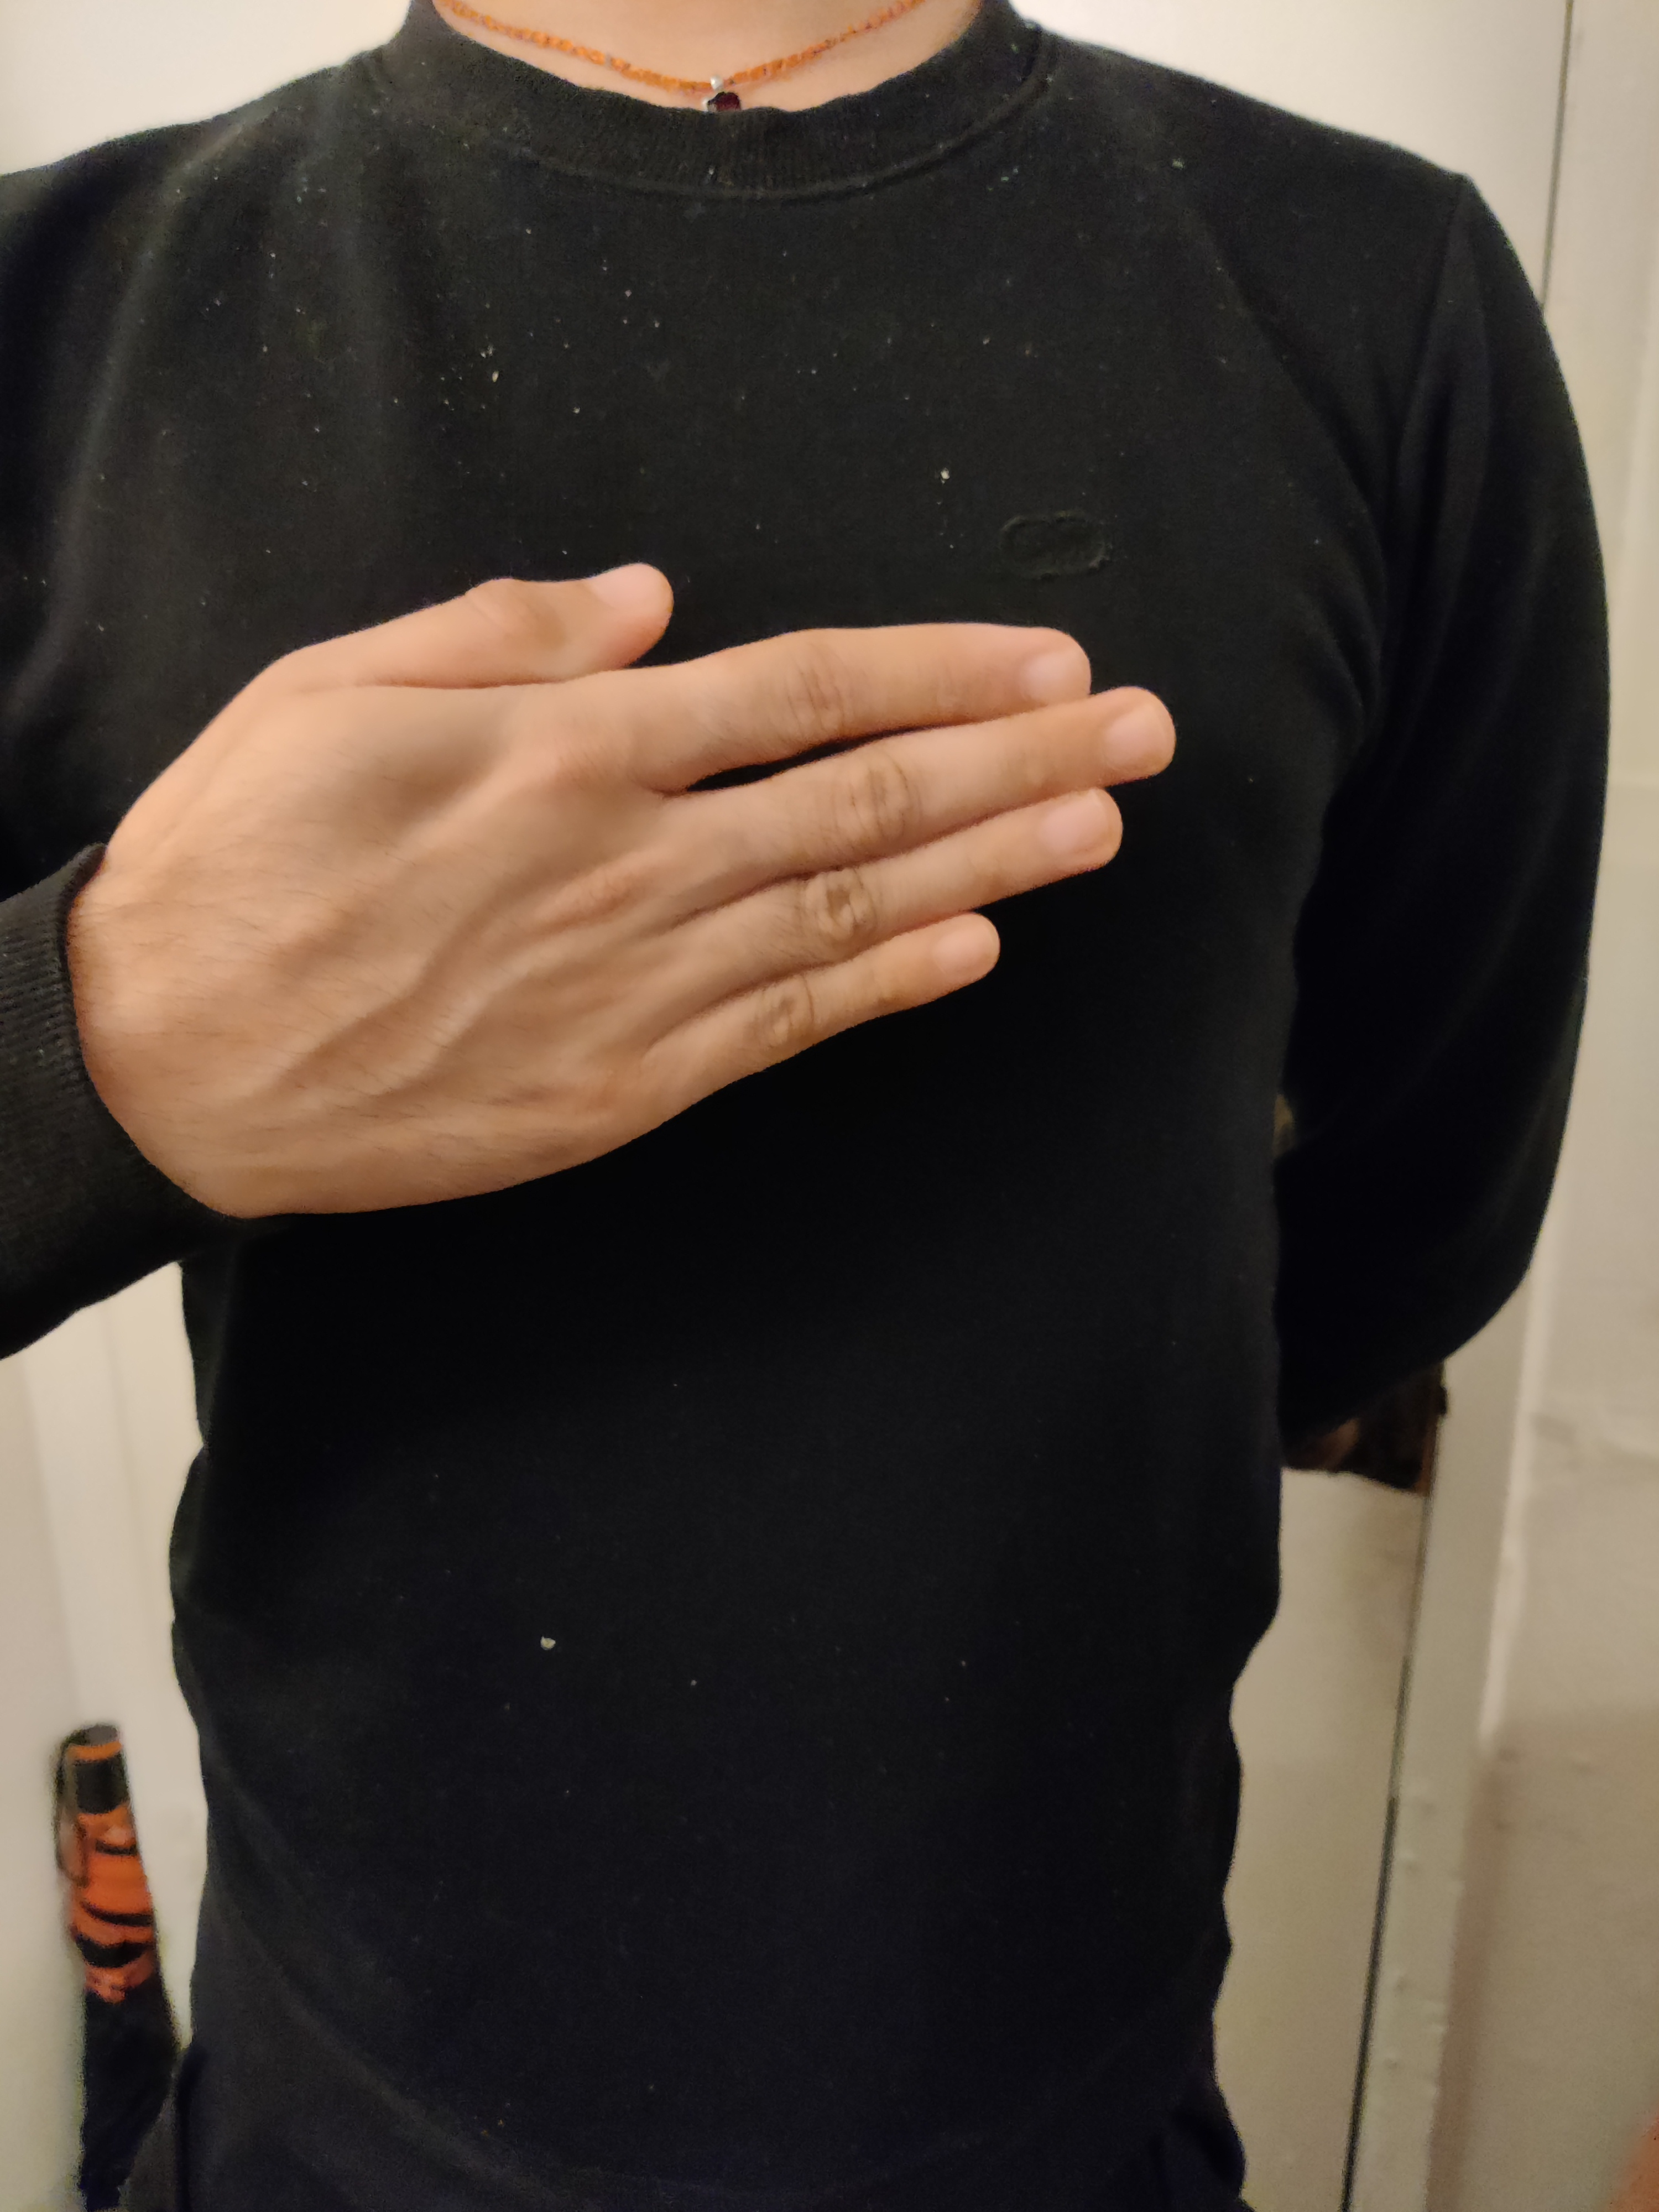left: (2, 460, 1295, 1228)
